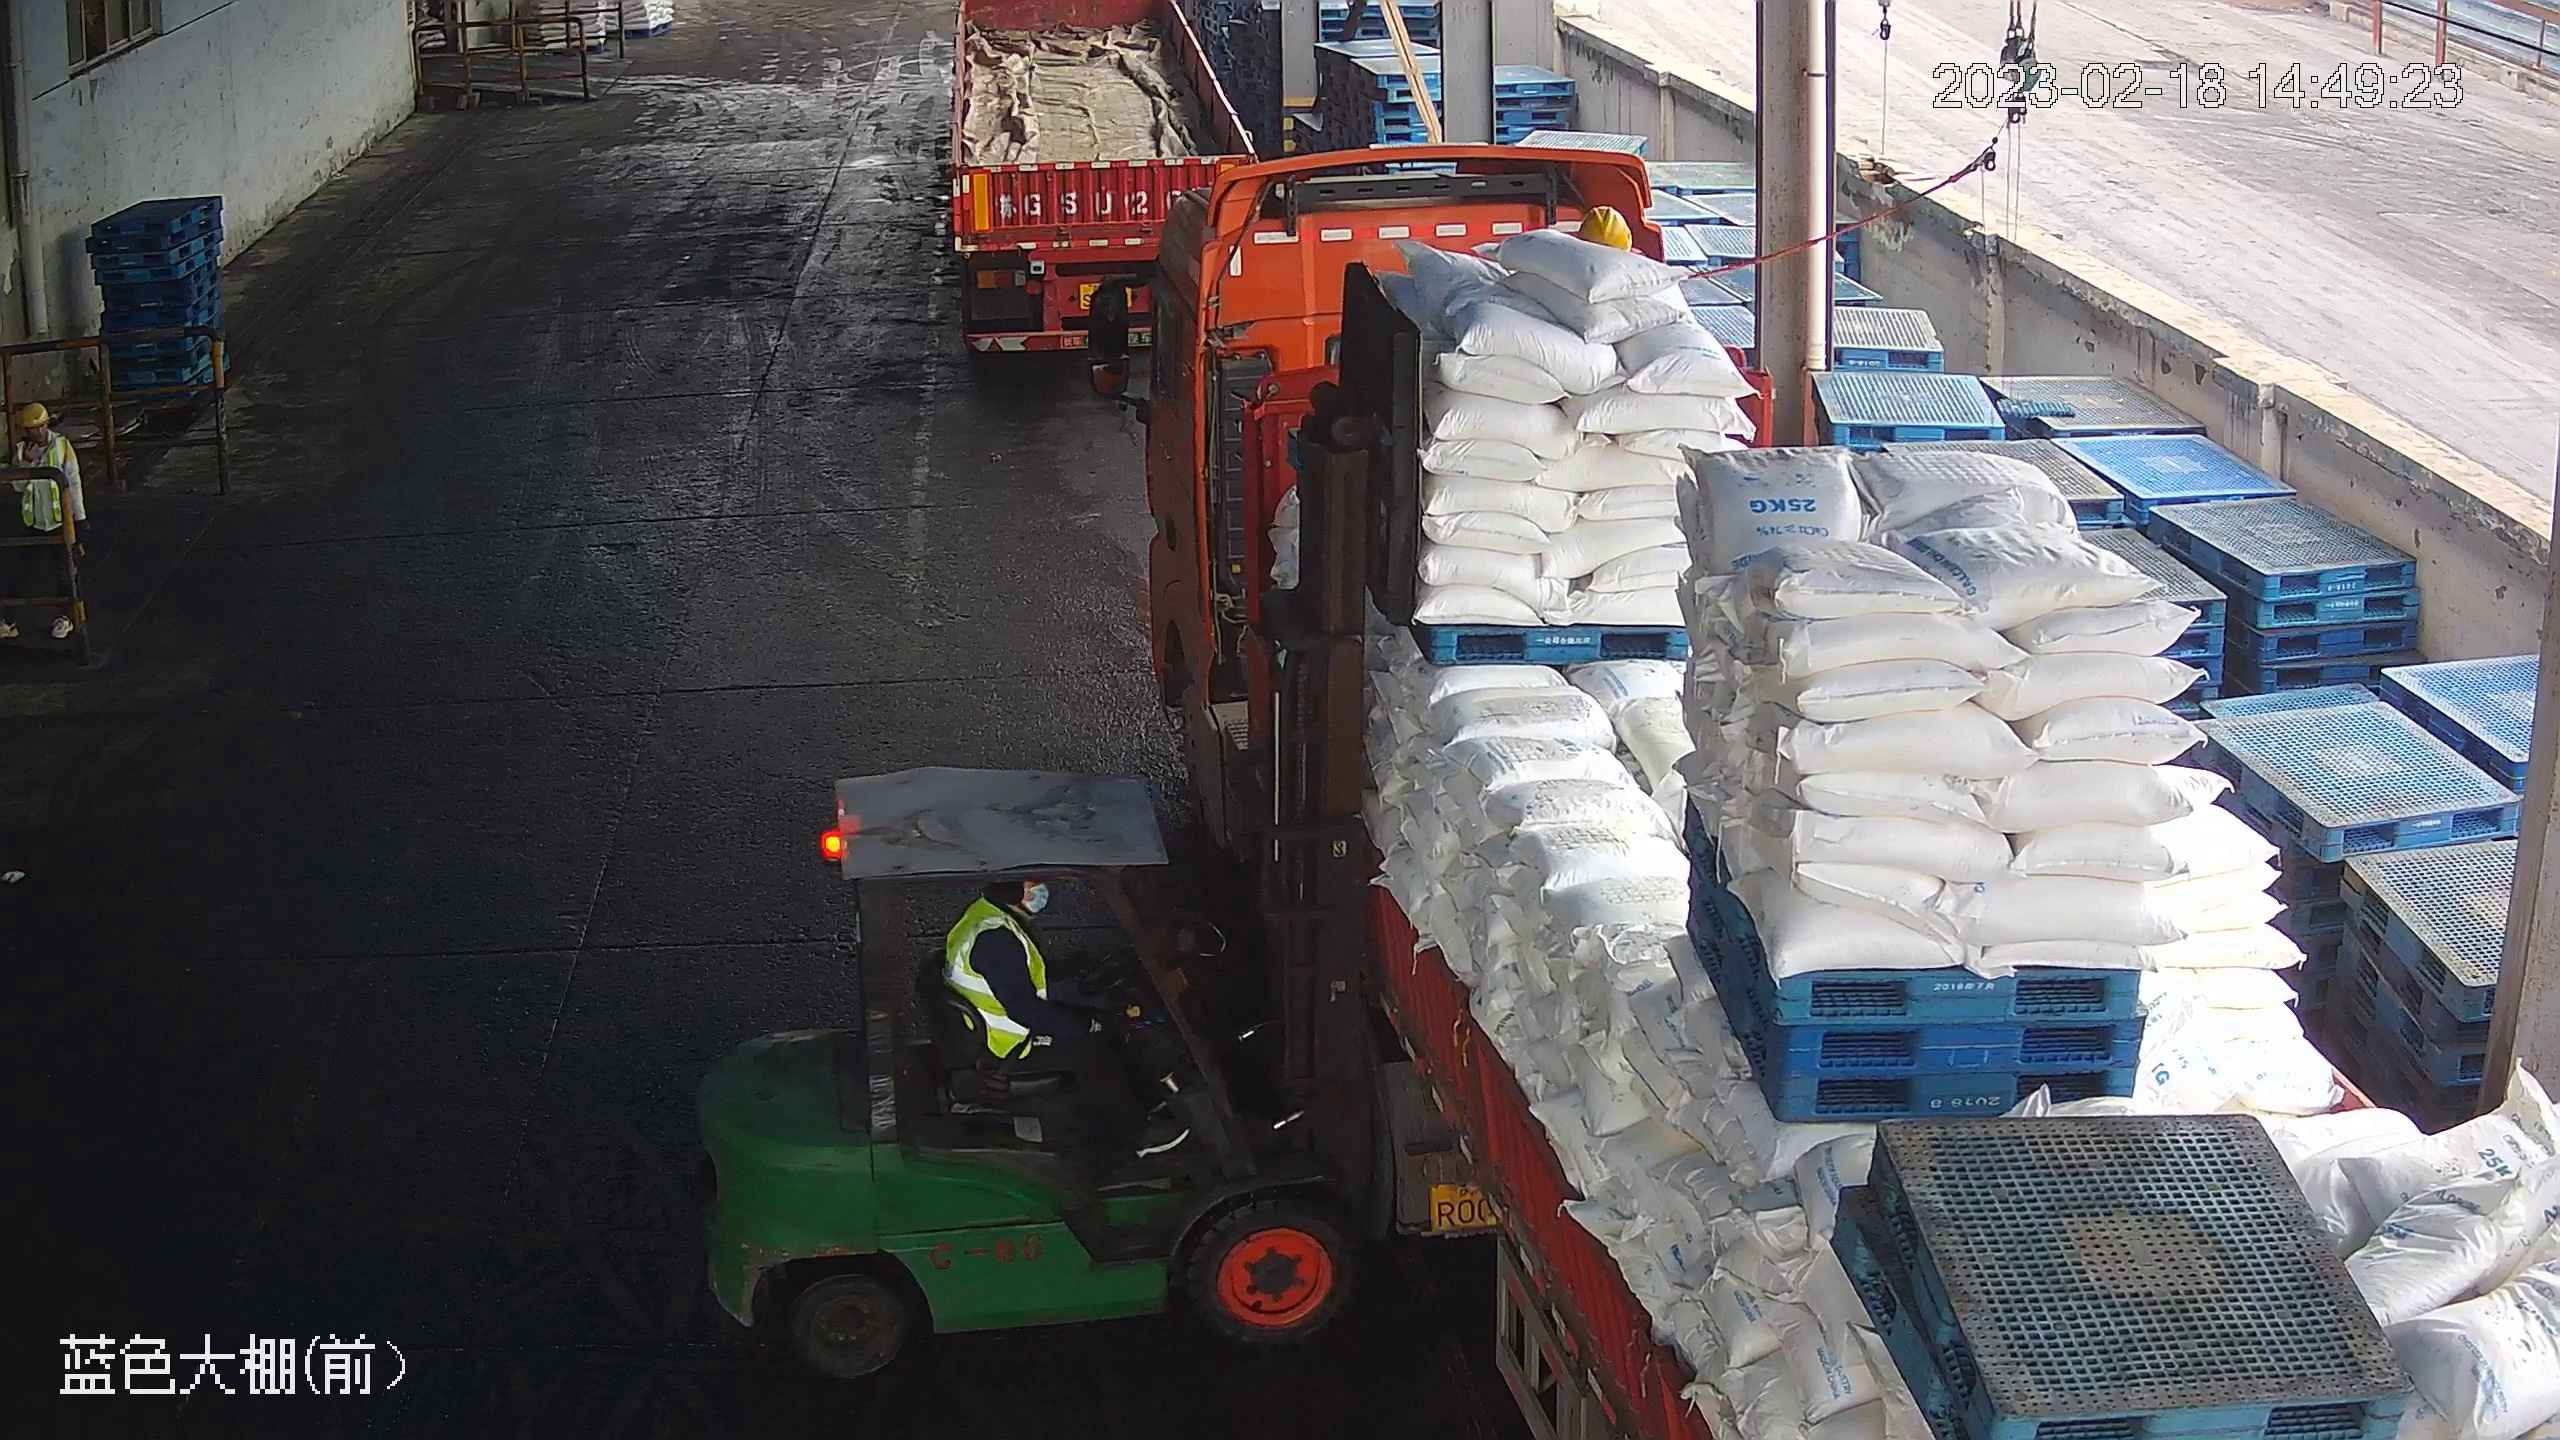helmet: (1578, 202, 1638, 252), (16, 402, 48, 424)
people: (944, 878, 1191, 1155)
truck: (1047, 158, 2555, 1440), (931, 10, 1273, 362)
